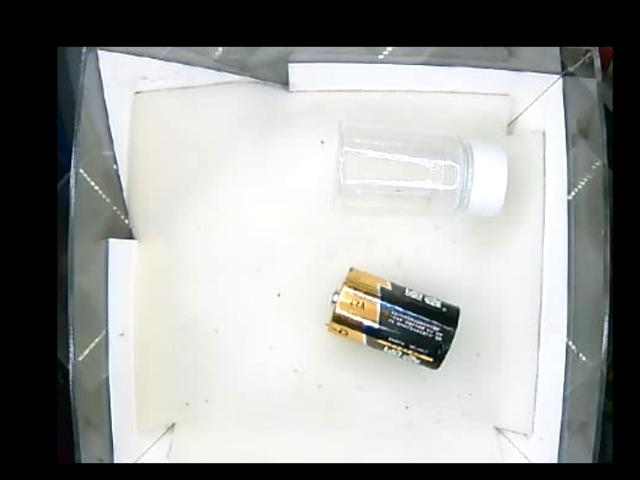Battery: (325, 268, 462, 370)
Bottle: (328, 122, 511, 220)
